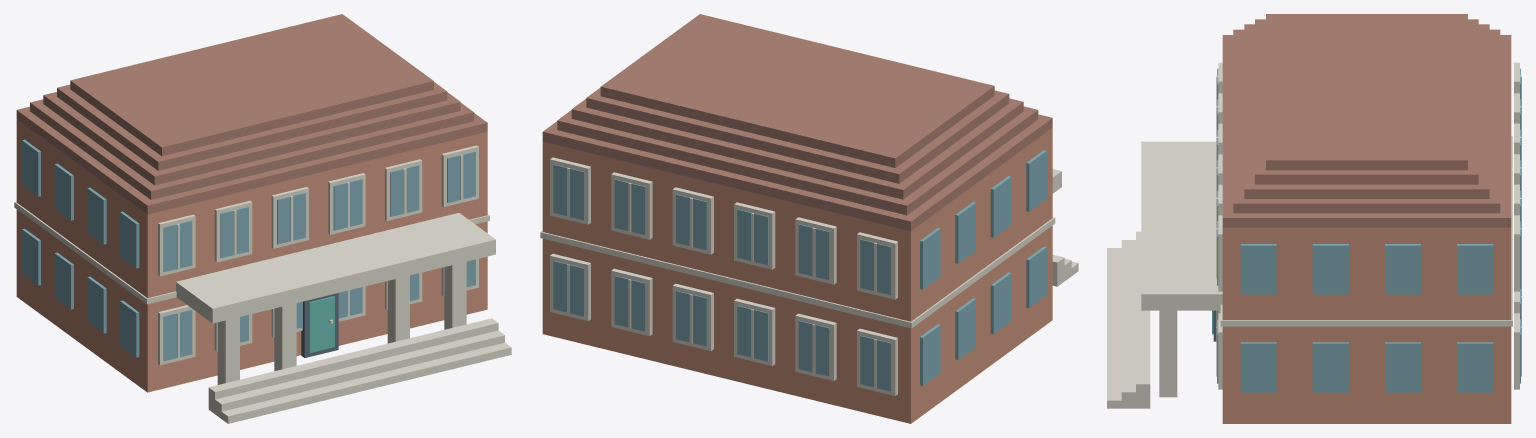
Rendered from voxel-city-districts-museum-portico-3b12bc0b__24794.glb.
The picture shows the model from 3 angles, left to right: view 1: azimuth 30°, elevation 25°; view 2: azimuth 150°, elevation 25°; view 3: azimuth 270°, elevation 25°; orthographic projection. The views are drawn at different scales.
Visible parts, largest first — view 1: museum-portico-roof, museum-portico-concrete, museum-portico-brick, museum-portico-glass, museum-portico-accent, museum-portico-dark; view 2: museum-portico-roof, museum-portico-brick, museum-portico-glass, museum-portico-concrete; view 3: museum-portico-roof, museum-portico-brick, museum-portico-concrete, museum-portico-glass.
Part boxes in pixels (left/top/right/bottom): museum-portico-roof: left=16, top=14, right=487, bottom=214; museum-portico-concrete: left=14, top=145, right=511, bottom=423; museum-portico-brick: left=16, top=119, right=487, bottom=392; museum-portico-glass: left=22, top=139, right=475, bottom=361; museum-portico-accent: left=309, top=296, right=334, bottom=353; museum-portico-dark: left=301, top=293, right=338, bottom=357; museum-portico-roof: left=542, top=14, right=1052, bottom=230; museum-portico-brick: left=542, top=128, right=1052, bottom=423; museum-portico-glass: left=553, top=150, right=1046, bottom=391; museum-portico-concrete: left=540, top=157, right=1078, bottom=395; museum-portico-roof: left=1222, top=14, right=1511, bottom=227; museum-portico-brick: left=1222, top=227, right=1511, bottom=423; museum-portico-concrete: left=1107, top=62, right=1521, bottom=408; museum-portico-glass: left=1217, top=68, right=1520, bottom=392.
Bounding box in the file's own units: 12.2 × 7.5 × 11.49.
